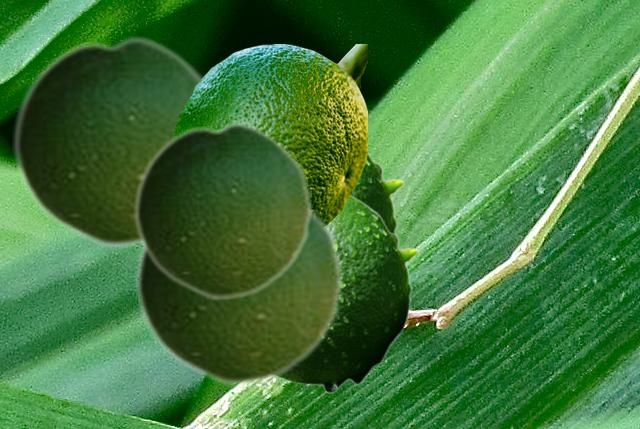dalandan: (12, 33, 204, 249), (134, 205, 343, 387), (173, 44, 366, 224), (133, 119, 312, 301), (279, 195, 418, 393), (353, 145, 404, 234)
